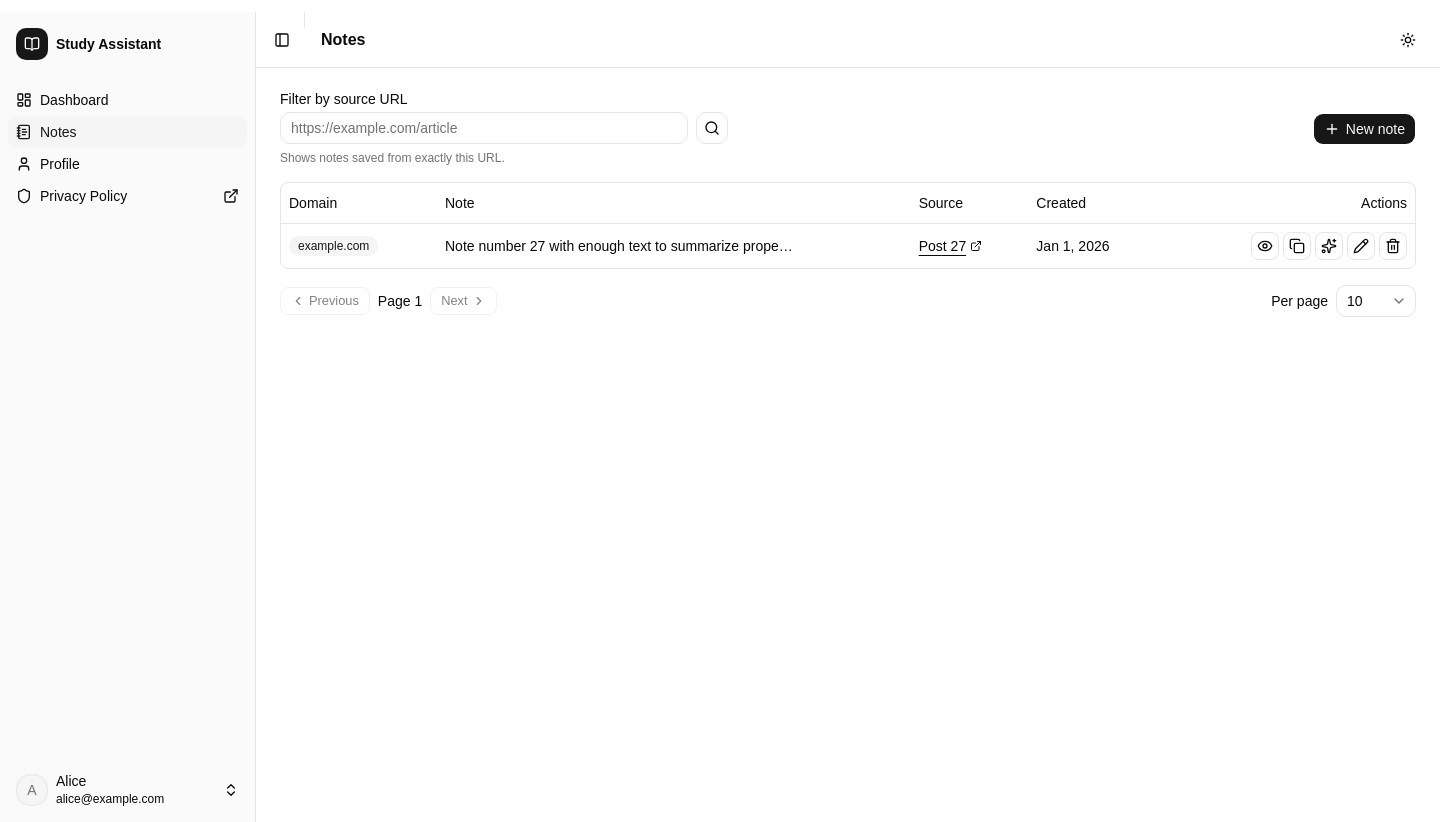
Test: notes page › shows a generic error when summarization is not configured (503)
Click the button named "Generate summary". click: point(1329, 246)
box: top-left (1315, 232), bottom-right (1343, 260)
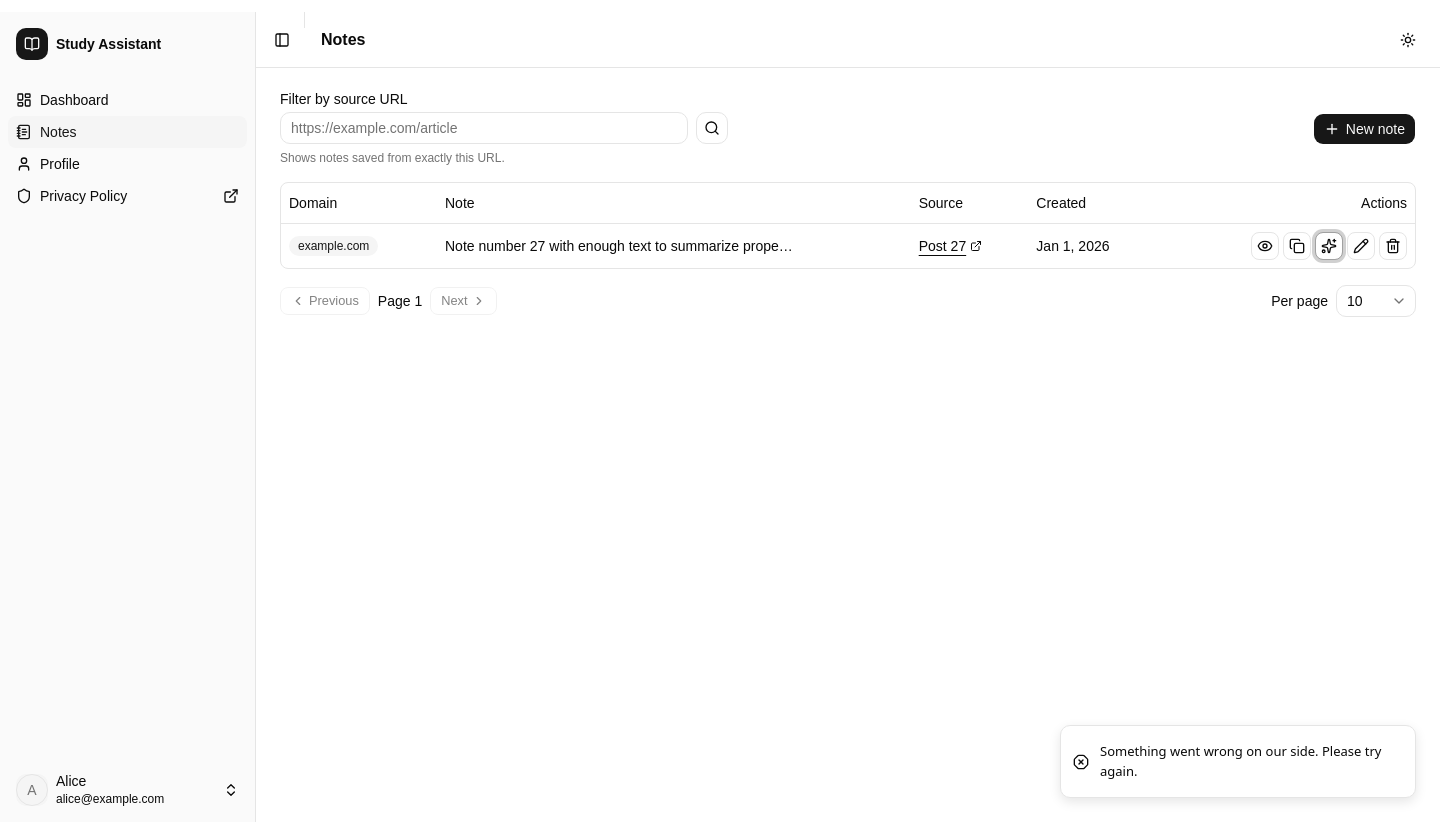
Expected: the text "Something went wrong on our side. Please try again." is shown, top-left (1100, 742), bottom-right (1399, 781)
